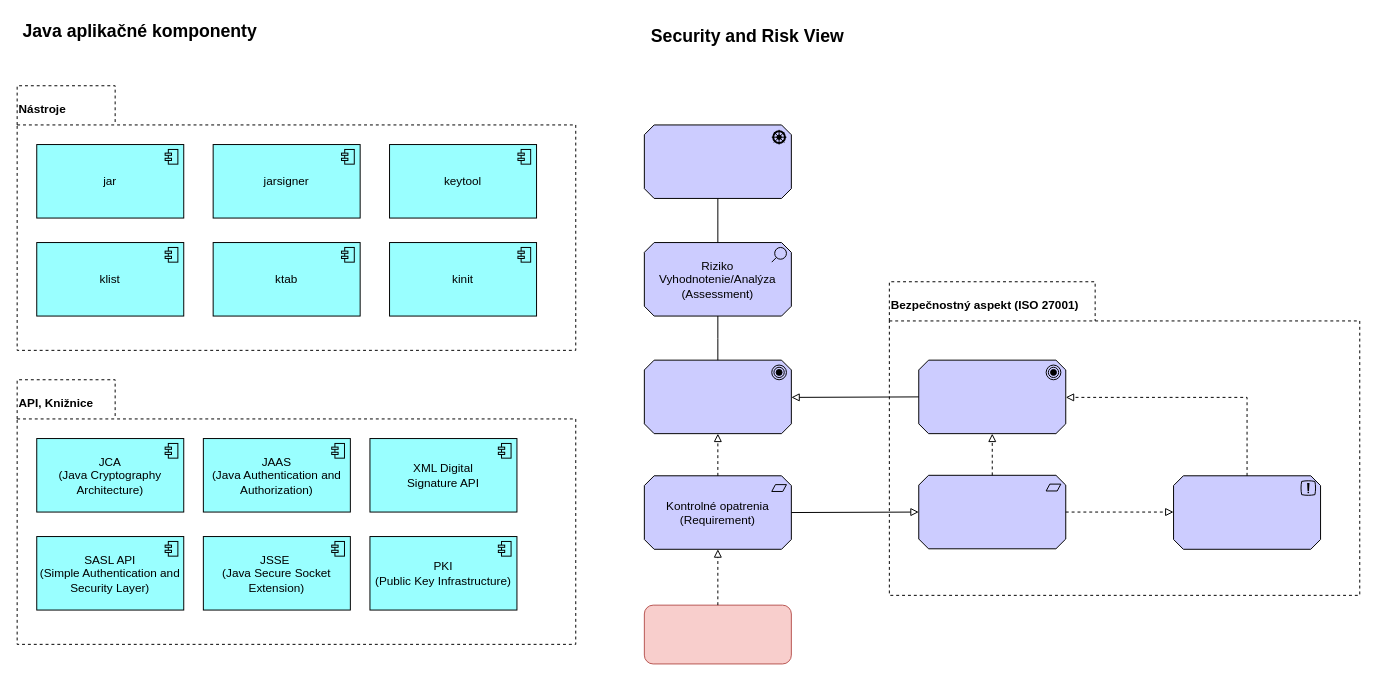
Some shapes in this 1377 by 681 pixel diagram are drawn without their labels. The centre of each missing label's shape, as x and y in pixels:
Akokýkoľvek EA element: (717,634)
Bezpečnostné informačné princípy: (1247,512)
Informačná bezpečnosť (Requirement): (992,511)
Riadiť bezpečnosť (Goal): (992,396)
Riadiť riziká (Goal): (717,396)
Riziko / Bezpečnosti Hrozby (Driver): (717,161)
